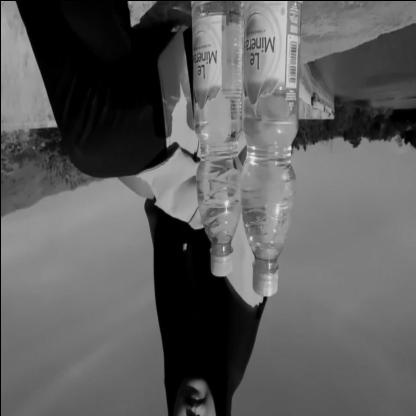plastic_bottles: (240, 0, 302, 294), (190, 0, 245, 276)
